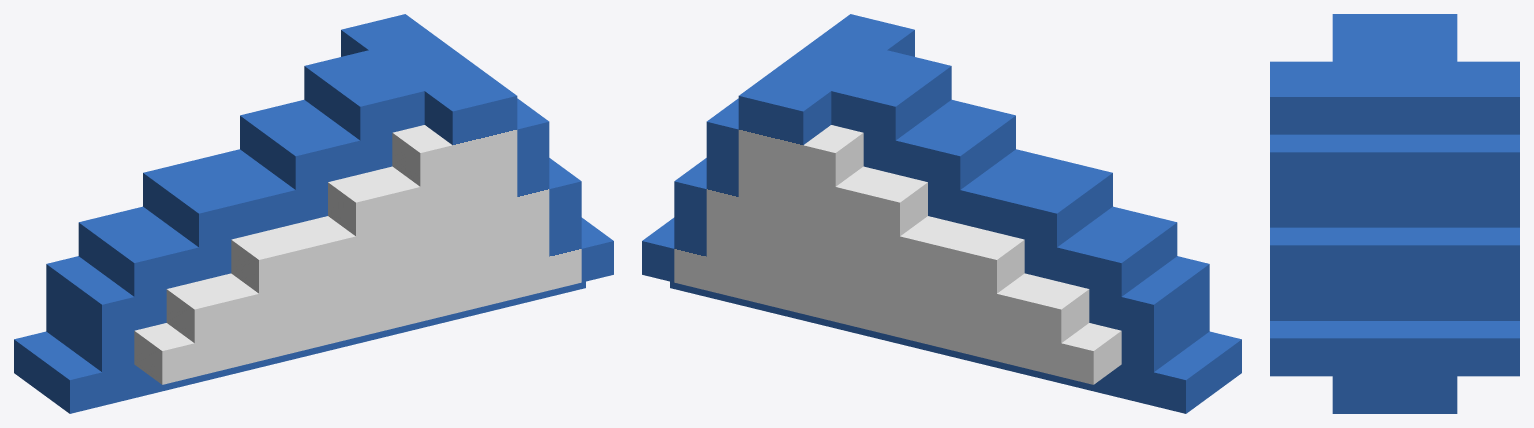
The model's file is cloud.glb.
3 views of the same model, side by side, from view 1: azimuth 30°, elevation 25°; view 2: azimuth 150°, elevation 25°; view 3: azimuth 270°, elevation 25° (orthographic). The views are drawn at different scales.
Visible parts, largest first — view 1: part_1 (×3); view 2: part_1 (×3); view 3: part_1 (×3).
Part boxes in pixels (x1,y1,x2,y2): part_1 (×3): [14, 14, 613, 413]; part_1 (×3): [642, 14, 1241, 413]; part_1 (×3): [1270, 14, 1519, 413].
Bounding box in the file's own units: 1.14 × 0.5 × 0.4286.
1 material, 1 textured.
